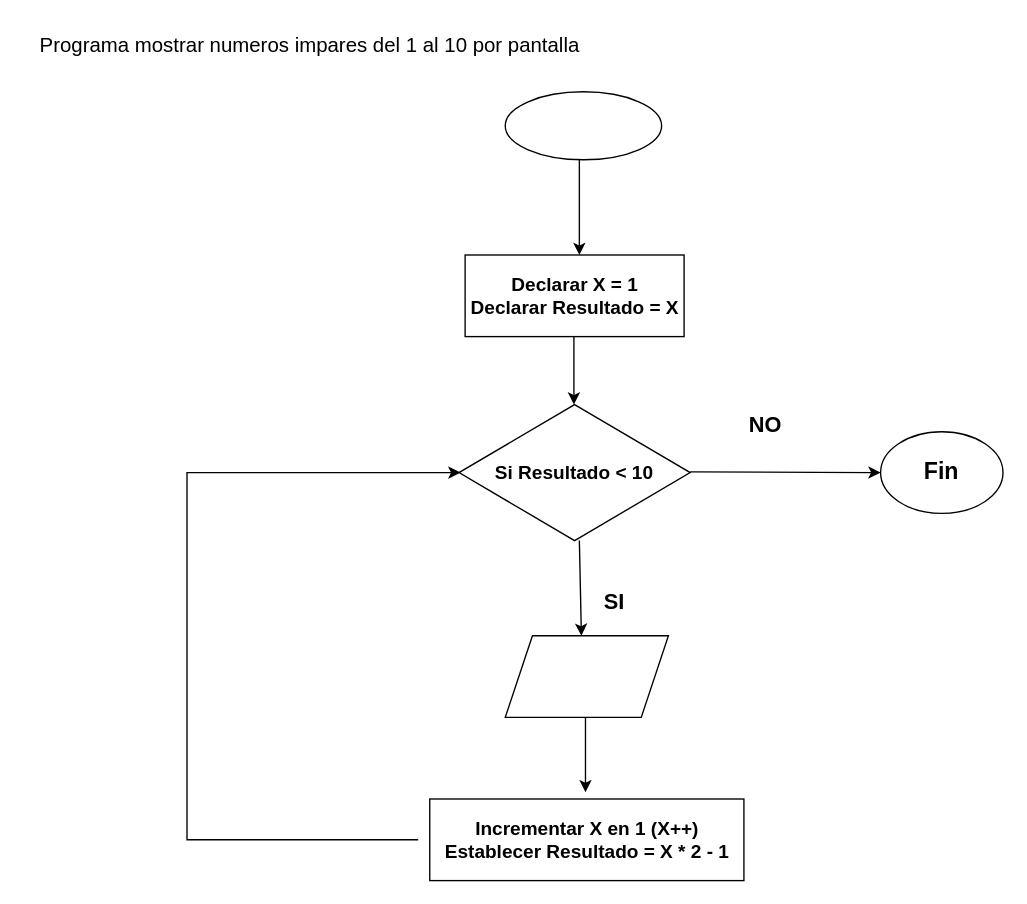
This 1027x904 diagram has some shape labels left out. Each missing label, with the centre of its shape:
Inicio: the point at 583,125
Mostrar Resultado: the point at 586,675
